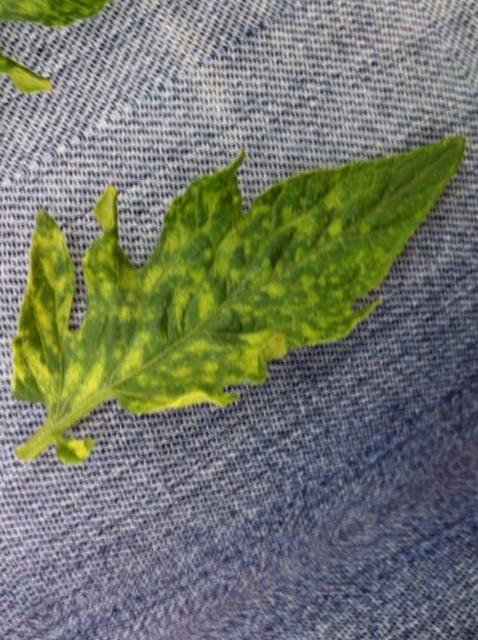Tomato leaf mosaic virus: (0, 0, 478, 533)
